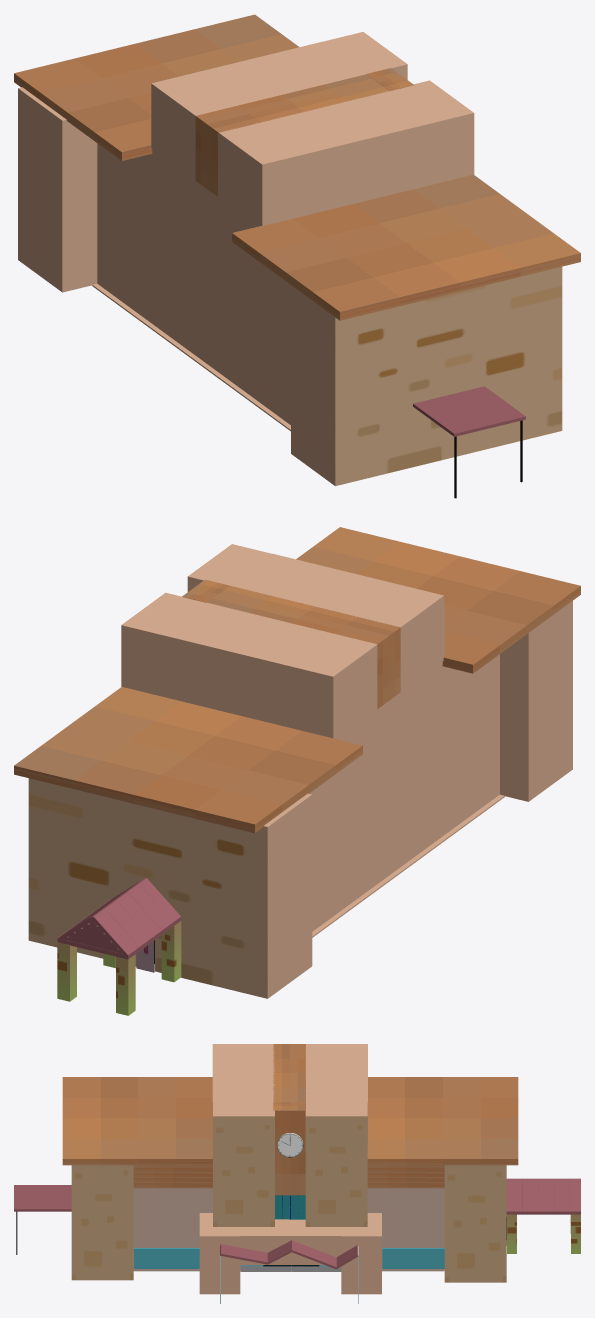
File: FachadaV4.obj
3 renders of one model, top to bottom at view 1: azimuth 30°, elevation 25°; view 2: azimuth 150°, elevation 25°; view 3: azimuth 270°, elevation 25°, orthographic. The views are drawn at different scales.
Parts seen in each view (by area): view 1: pasted__pasted__pCube2 pasted__group5 group6, pasted__pCube1 group, pasted__pCube1 group4, pasted__pasted__pasted__pasted__pCube2 pasted__pasted__pasted__g, pasted__pasted__pCube1 pasted__group4 group18, pasted__pCube2 group5, pasted__pasted__pasted__pCube2 pasted__pasted__group5 pasted__gr, group12 pasted__pasted__pasted__pasted__pasted__pCube2 pasted__p, pCube9, pasted__pasted__pasted__pasted__pasted__pasted__pCube2 pasted__p, pCube1; view 2: pasted__pCube2 group5, pasted__pCube1 group, pasted__pasted__pCube1 pasted__group4 group18, pasted__pasted__pasted__pCube2 pasted__pasted__group5 pasted__gr, pasted__pasted__pasted__pasted__pCube2 pasted__pasted__pasted__g, pasted__pCube1 group4, pasted__pasted__pCube2 pasted__group5 group6, pasted__pasted__pasted__pasted__pasted__pasted__pCube2 pasted__p, group12 pasted__pasted__pasted__pasted__pasted__pCube2 pasted__p, pCube1, pasted__pasted__pCube7 pasted__group46 group47, group47 pasted__pCube7 (+7 smaller); view 3: pasted__pasted__pCube1 pasted__group4 group18, pasted__pCube1 group4, pasted__pasted__pCube1 pasted__group group1, pasted__pasted__pasted__pasted__pasted__pasted__pCube2 pasted__p, group12 pasted__pasted__pasted__pasted__pasted__pCube2 pasted__p, pasted__pCube2 group5, pasted__pasted__pCube2 pasted__group5 group6, pasted__pasted__pasted__pasted__pCube2 pasted__pasted__pasted__g, pasted__pasted__pasted__pCube2 pasted__pasted__group5 pasted__gr, pasted__pasted__pasted__pCube2 pasted__pasted__group19 pasted__g, pasted__pCube2 group19, pasted__pasted__pCube2 pasted__group19 group20 (+24 smaller).
Part boxes in pixels (x1=…): pasted__pasted__pCube2 pasted__group5 group6: x1=291, y1=266, x2=562, y2=486; pasted__pCube1 group: x1=97, y1=143, x2=290, y2=424; pasted__pCube1 group4: x1=232, y1=174, x2=580, y2=320; pasted__pasted__pasted__pasted__pCube2 pasted__pasted__pasted__g: x1=195, y1=74, x2=433, y2=226; pasted__pasted__pCube1 pasted__group4 group18: x1=14, y1=14, x2=299, y2=160; pasted__pCube2 group5: x1=18, y1=87, x2=97, y2=292; pasted__pasted__pasted__pCube2 pasted__pasted__group5 pasted__gr: x1=151, y1=41, x2=366, y2=180; group12 pasted__pasted__pasted__pasted__pasted__pCube2 pasted__p: x1=390, y1=80, x2=474, y2=183; pCube9: x1=413, y1=386, x2=525, y2=436; pasted__pasted__pasted__pasted__pasted__pasted__pCube2 pasted__p: x1=323, y1=32, x2=407, y2=79; pCube1: x1=92, y1=283, x2=290, y2=431; pasted__pCube2 group5: x1=28, y1=778, x2=312, y2=998; pasted__pCube1 group: x1=309, y1=654, x2=499, y2=931; pasted__pasted__pCube1 pasted__group4 group18: x1=14, y1=687, x2=362, y2=833; pasted__pasted__pasted__pCube2 pasted__pasted__group5 pasted__gr: x1=162, y1=602, x2=377, y2=738; pasted__pasted__pasted__pasted__pCube2 pasted__pasted__pasted__g: x1=207, y1=554, x2=444, y2=708; pasted__pCube1 group4: x1=296, y1=527, x2=580, y2=673; pasted__pasted__pCube2 pasted__group5 group6: x1=500, y1=601, x2=572, y2=801; pasted__pasted__pasted__pasted__pasted__pasted__pCube2 pasted__p: x1=121, y1=592, x2=205, y2=696; group12 pasted__pasted__pasted__pasted__pasted__pCube2 pasted__p: x1=187, y1=544, x2=271, y2=591; pCube1: x1=312, y1=794, x2=504, y2=937; pasted__pasted__pCube7 pasted__group46 group47: x1=116, y1=954, x2=135, y2=1015; group47 pasted__pCube7: x1=57, y1=942, x2=76, y2=1001; pasted__pasted__pCube1 pasted__group4 group18: x1=367, y1=1077, x2=518, y2=1165; pasted__pCube1 group4: x1=62, y1=1077, x2=212, y2=1165; pasted__pasted__pCube1 pasted__group group1: x1=133, y1=1188, x2=444, y2=1271; pasted__pasted__pasted__pasted__pasted__pasted__pCube2 pasted__p: x1=275, y1=1102, x2=367, y2=1226; group12 pasted__pasted__pasted__pasted__pasted__pCube2 pasted__p: x1=213, y1=1102, x2=274, y2=1226; pasted__pCube2 group5: x1=444, y1=1165, x2=506, y2=1282; pasted__pasted__pCube2 pasted__group5 group6: x1=71, y1=1165, x2=133, y2=1280; pasted__pasted__pasted__pasted__pCube2 pasted__pasted__pasted__g: x1=212, y1=1044, x2=444, y2=1268; pasted__pasted__pasted__pCube2 pasted__pasted__group5 pasted__gr: x1=305, y1=1044, x2=367, y2=1144; pasted__pasted__pasted__pCube2 pasted__pasted__group19 pasted__g: x1=240, y1=1219, x2=341, y2=1264; pasted__pCube2 group19: x1=341, y1=1213, x2=381, y2=1294; pasted__pasted__pCube2 pasted__group19 group20: x1=199, y1=1213, x2=240, y2=1294.
Size of the model in its own units: 10.48 by 8.1 by 24.43.
Materials: 61 (60 with a texture image).
